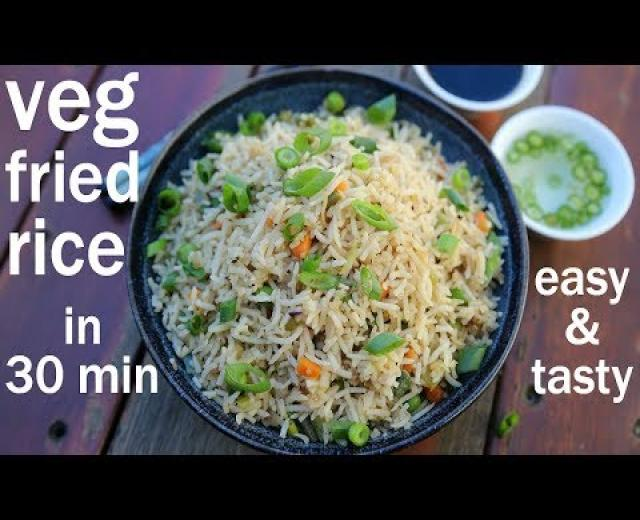fried rice: (144, 97, 503, 446), (507, 130, 609, 225)
